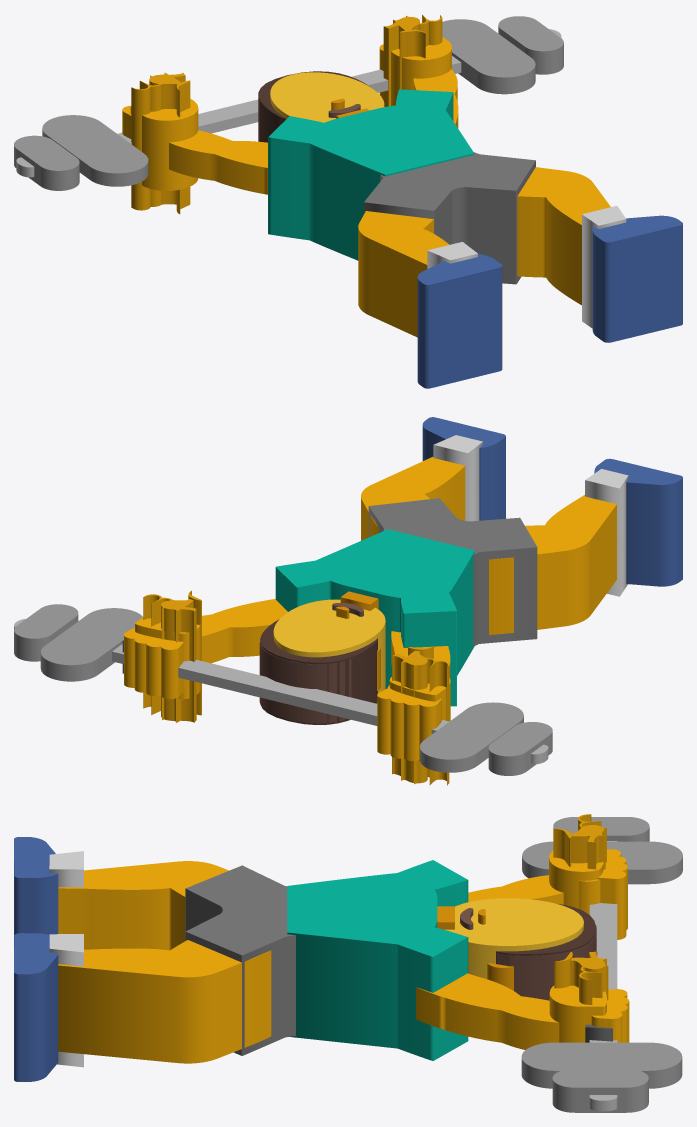
File: emoji_u1f3cb_200d_2642.glb
3 views of the same model, one above another, from view 1: azimuth 30°, elevation 25°; view 2: azimuth 150°, elevation 25°; view 3: azimuth 270°, elevation 25° (orthographic). The views are drawn at different scales.
Parts seen in each view (by area): view 1: emoji_u1f3cb_200d_2642; view 2: emoji_u1f3cb_200d_2642; view 3: emoji_u1f3cb_200d_2642.
Part boxes in pixels (bbox=[...]): emoji_u1f3cb_200d_2642: bbox=[14, 14, 682, 388]; emoji_u1f3cb_200d_2642: bbox=[14, 417, 682, 785]; emoji_u1f3cb_200d_2642: bbox=[14, 814, 682, 1112].
Size of the model in its own units: 0.0338 by 0.0074 by 0.0337.
